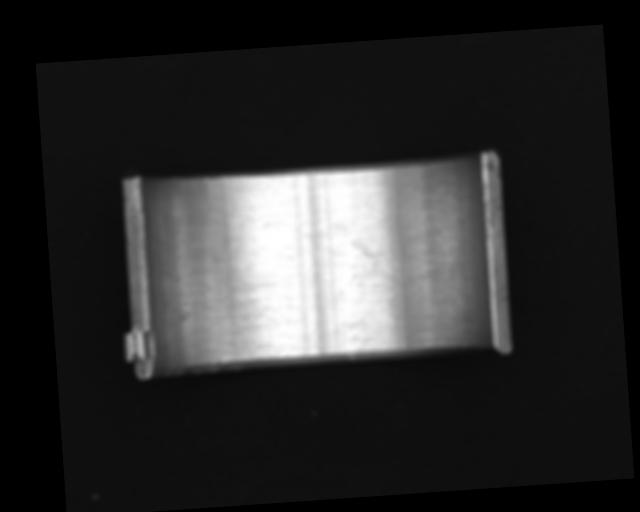blot: (347, 236, 392, 286)
